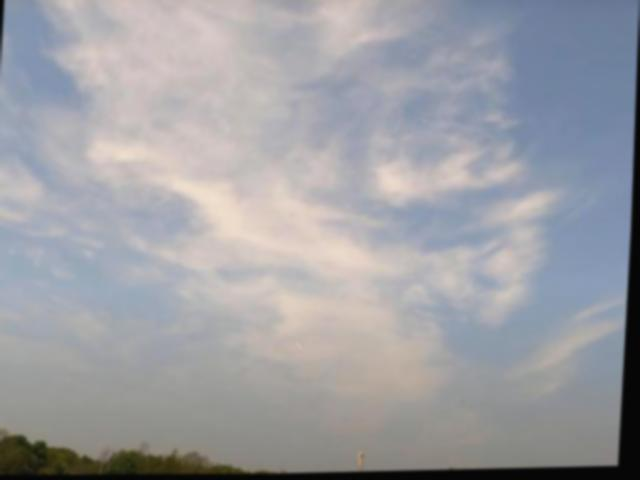iha: (297, 341, 306, 351)
